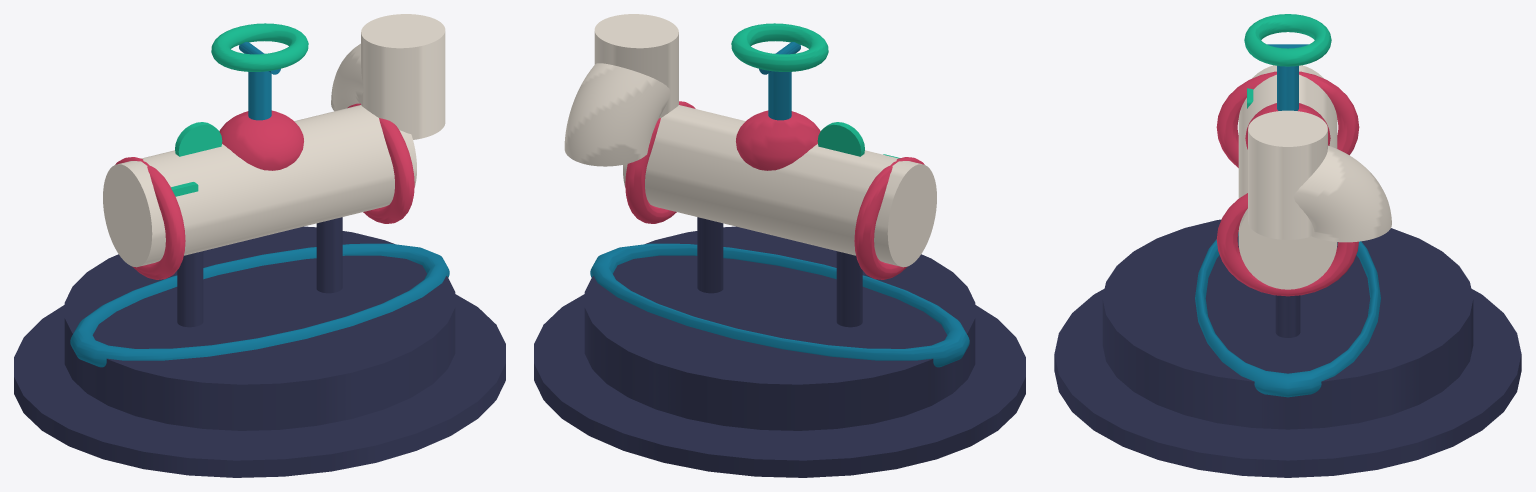
The model's file is 1342_城市运转图鉴_长距离输气管道.glb.
3 views of the same model, side by side, from view 1: azimuth 30°, elevation 25°; view 2: azimuth 150°, elevation 25°; view 3: azimuth 270°, elevation 25° (orthographic).
Parts seen in each view (by area): view 1: card_1342; view 2: card_1342; view 3: card_1342.
Boxes of the visible parts, x1,y1,x2,y2 form: card_1342: [14, 14, 505, 477]; card_1342: [534, 14, 1025, 477]; card_1342: [1054, 14, 1521, 477].
Size of the model in its own units: 1.35 by 1 by 1.25.
